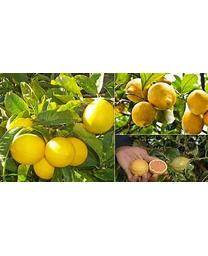lemon: (86, 99, 115, 134), (12, 134, 44, 164), (46, 138, 77, 168), (146, 83, 177, 111), (131, 102, 156, 127), (182, 110, 204, 134), (125, 78, 147, 101), (189, 89, 207, 114), (128, 159, 149, 176), (170, 157, 189, 170), (150, 158, 166, 173)
